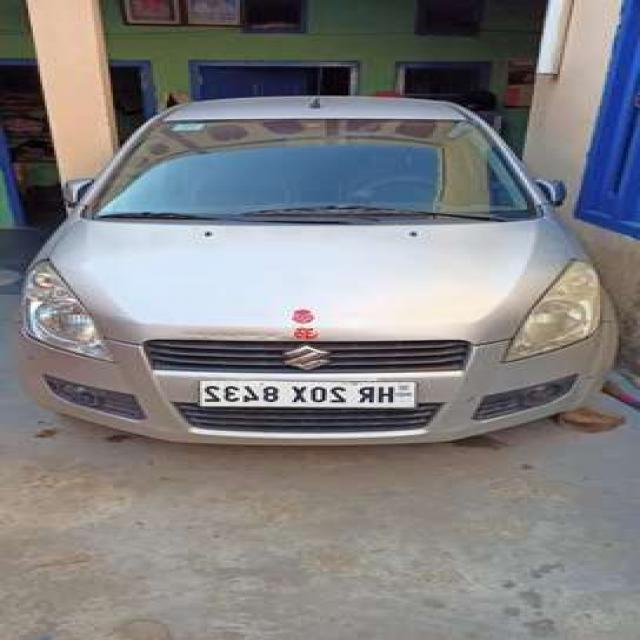license_plate: (190, 379, 422, 413)
